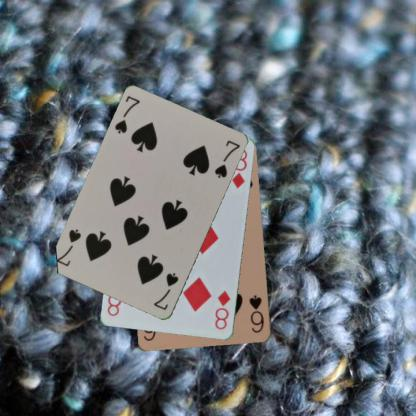6s: (247, 292, 265, 335)
7s: (112, 93, 142, 135), (151, 270, 180, 312)
8d: (212, 288, 232, 331)
